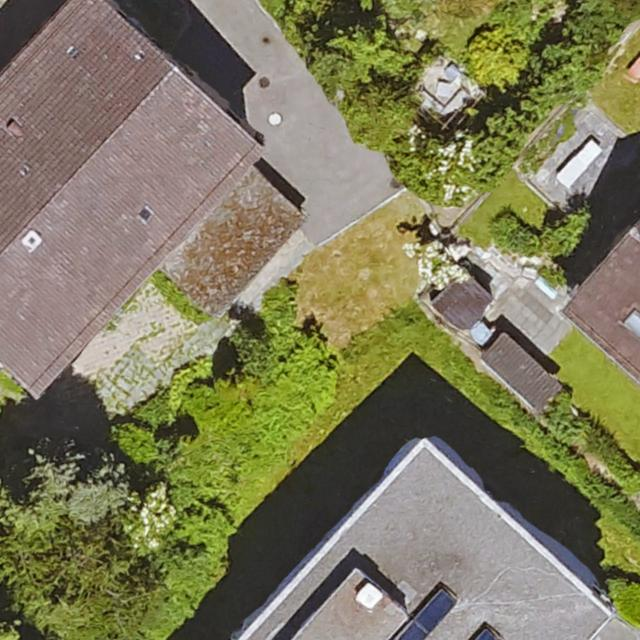tree: (1, 450, 153, 640), (389, 125, 505, 198), (319, 32, 403, 88), (466, 26, 534, 90), (546, 208, 611, 262), (114, 426, 179, 473)
